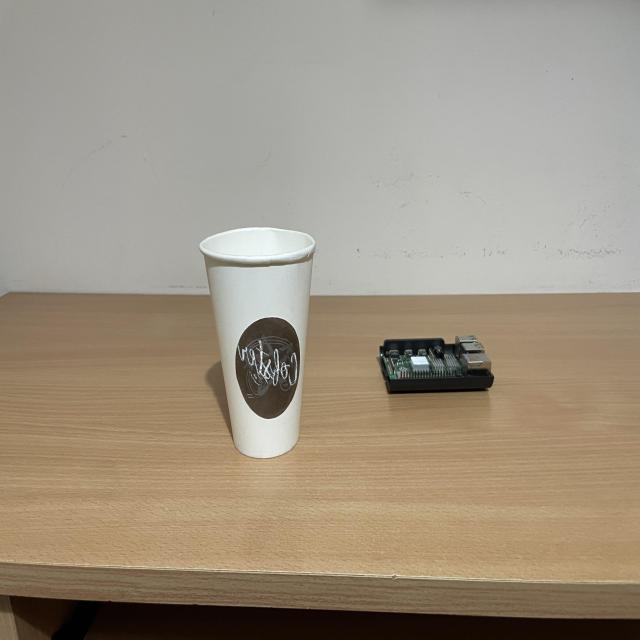big: (197, 224, 321, 458)
